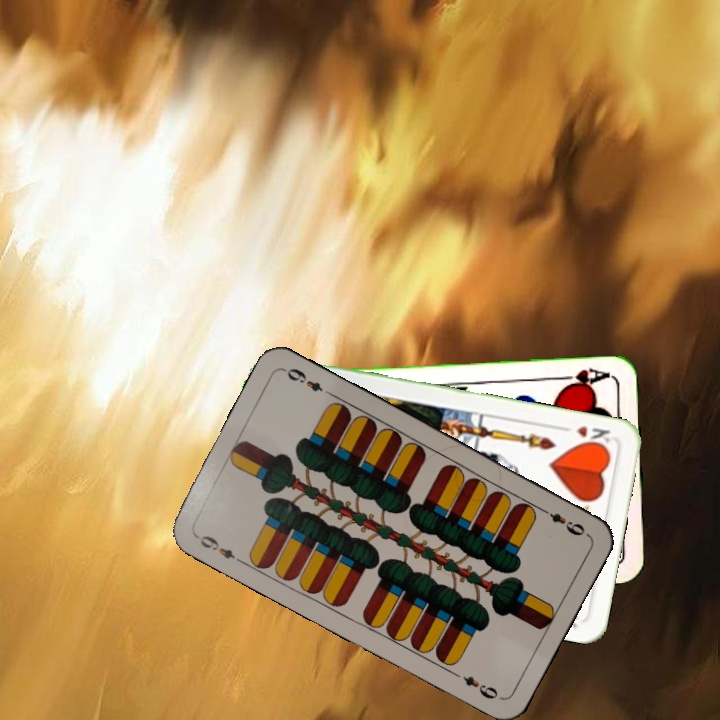E9: (192, 531, 246, 566), (536, 503, 588, 539)
HA: (554, 364, 613, 391)
HK: (557, 422, 613, 451)
